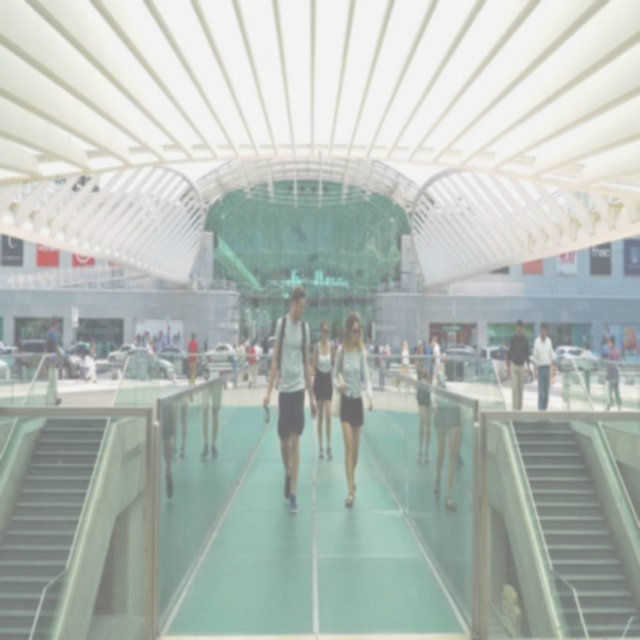pessoa: (260, 284, 320, 514), (330, 312, 375, 508), (158, 381, 226, 504), (413, 385, 469, 515), (271, 302, 310, 462), (305, 318, 337, 462), (532, 320, 558, 412), (506, 317, 531, 412), (46, 315, 64, 408), (603, 335, 623, 413), (186, 334, 202, 389), (579, 341, 594, 398), (82, 338, 98, 386), (152, 328, 182, 352), (440, 334, 476, 352), (398, 338, 409, 389), (260, 327, 270, 382), (13, 336, 24, 386), (424, 336, 434, 386), (246, 340, 256, 390), (229, 341, 238, 388), (378, 340, 386, 390), (366, 338, 374, 382), (504, 341, 512, 384), (328, 336, 341, 358), (432, 334, 441, 364), (133, 330, 146, 350), (372, 340, 380, 372), (384, 341, 392, 372), (618, 338, 626, 364), (497, 342, 507, 362), (253, 338, 261, 362), (602, 338, 608, 366), (242, 334, 250, 354), (414, 340, 424, 355), (237, 338, 246, 354), (146, 336, 152, 354), (69, 338, 76, 350), (204, 336, 208, 352), (364, 341, 368, 356)
